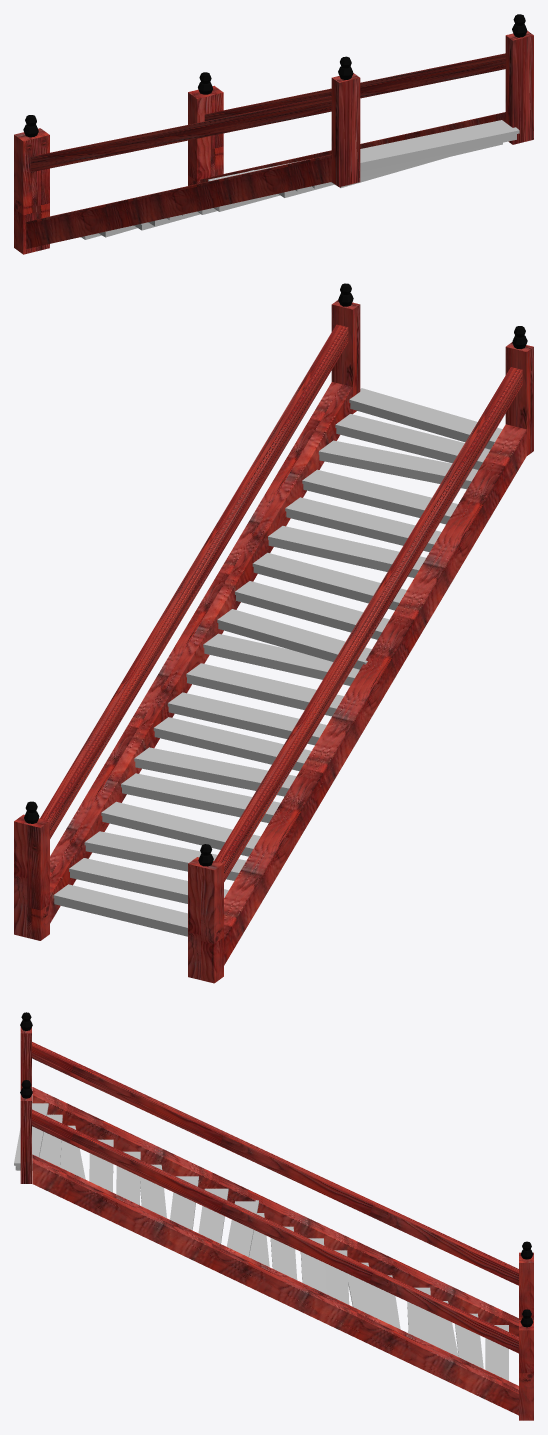
The model's file is Escalier en bois interieur temple 1.fbx.
The picture shows the model from 3 angles, top to bottom: view 1: azimuth 30°, elevation 25°; view 2: azimuth 150°, elevation 25°; view 3: azimuth 270°, elevation 25°; orthographic projection. The views are drawn at different scales.
Parts seen in each view (by area): view 1: Plane, Plane.001; view 2: Plane, Plane.001; view 3: Plane, Plane.001.
Boxes of the visible parts, x1,y1,x2,y2 form: Plane: (14,14,533,254); Plane.001: (82,120,519,239); Plane: (14,283,533,983); Plane.001: (53,388,502,936); Plane: (14,1012,533,1420); Plane.001: (14,1102,508,1380).
Size of the model in its own units: 300 by 602 by 846.
